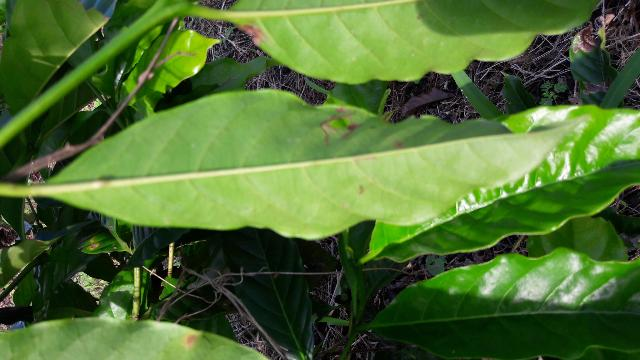rust_level_2: (48, 87, 578, 237)
